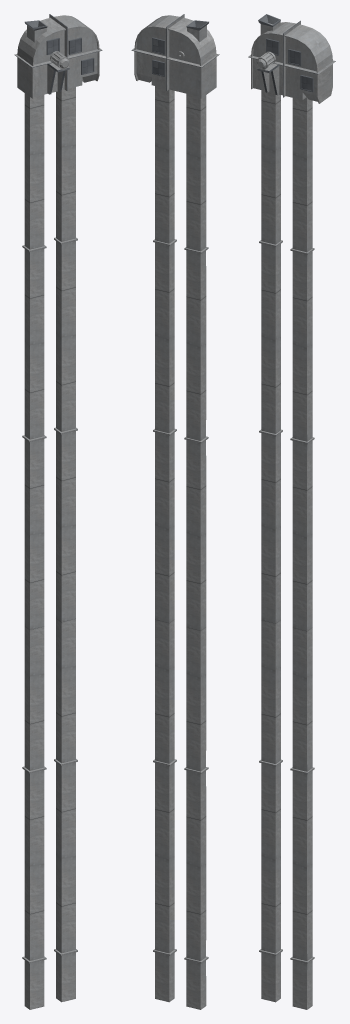
File: plant-building52-3.glb
3 renders of one model, left to right at view 1: azimuth 30°, elevation 25°; view 2: azimuth 150°, elevation 25°; view 3: azimuth 330°, elevation 25°, orthographic.
Visible parts, largest first — view 1: Object8935887; view 2: Object8935887; view 3: Object8935887.
Part boxes in pixels (box(x1,y1,x2,y2)): Object8935887: box(14, 14, 102, 1009); Object8935887: box(131, 14, 219, 1009); Object8935887: box(248, 14, 335, 1009).
Bounding box in the file's own units: 2.53 × 33.73 × 1.75.
1 material, 1 textured.
